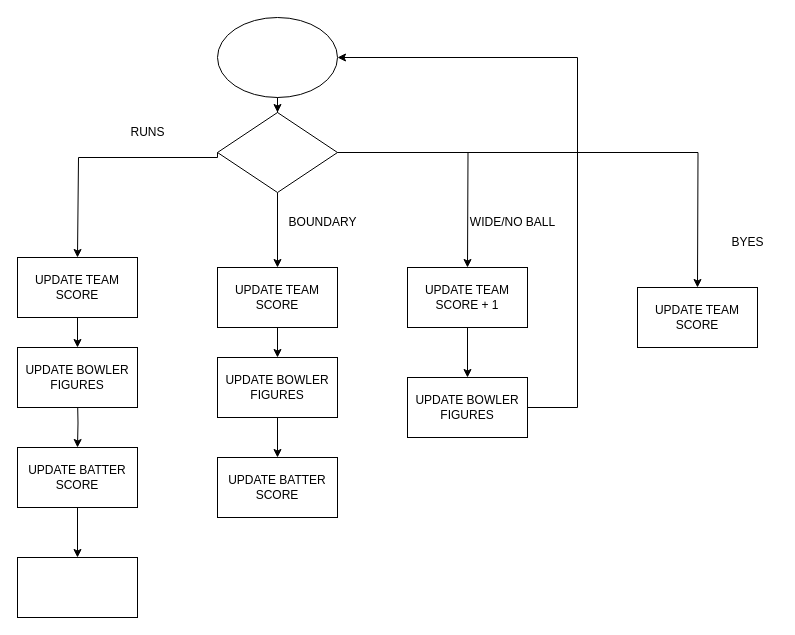
Image size: 795x635. Some labels were removed from this diagram. Here are the shapes that lost their labels. From the top down, the centre of each, then its label:
At point (277, 57): "BALL".
At point (277, 152): "OUTCOME".
At point (77, 587): "CALCULATE BATTER ON STRIKE".
